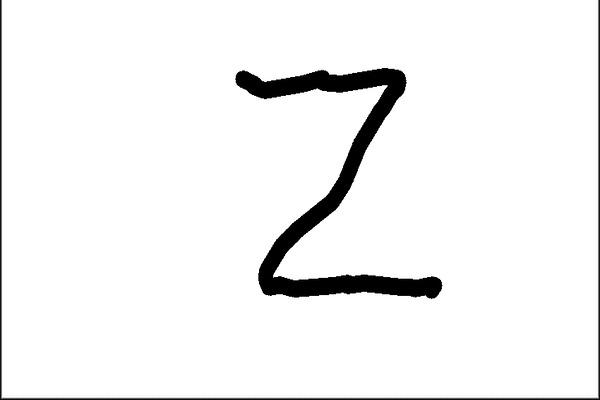Z: (226, 56, 455, 311)
